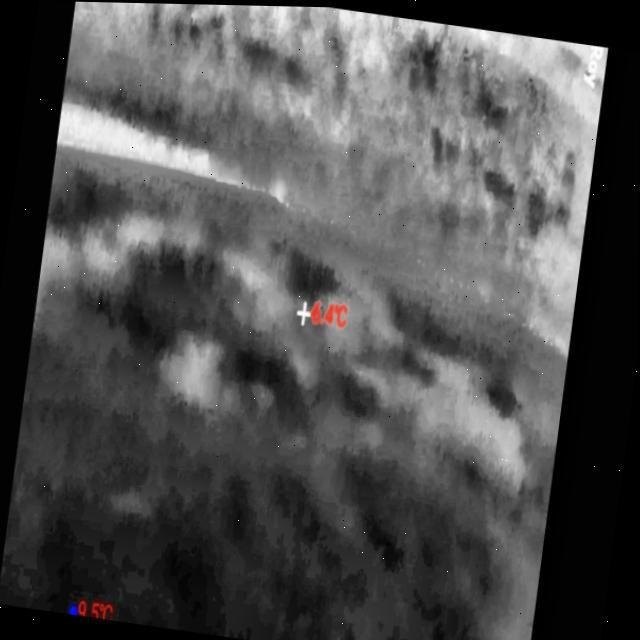drone: (246, 264, 254, 280)
